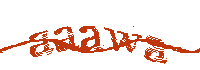a: (27, 28, 53, 58), (144, 34, 170, 64), (77, 24, 103, 54), (53, 23, 79, 53)
w: (105, 26, 143, 56)
